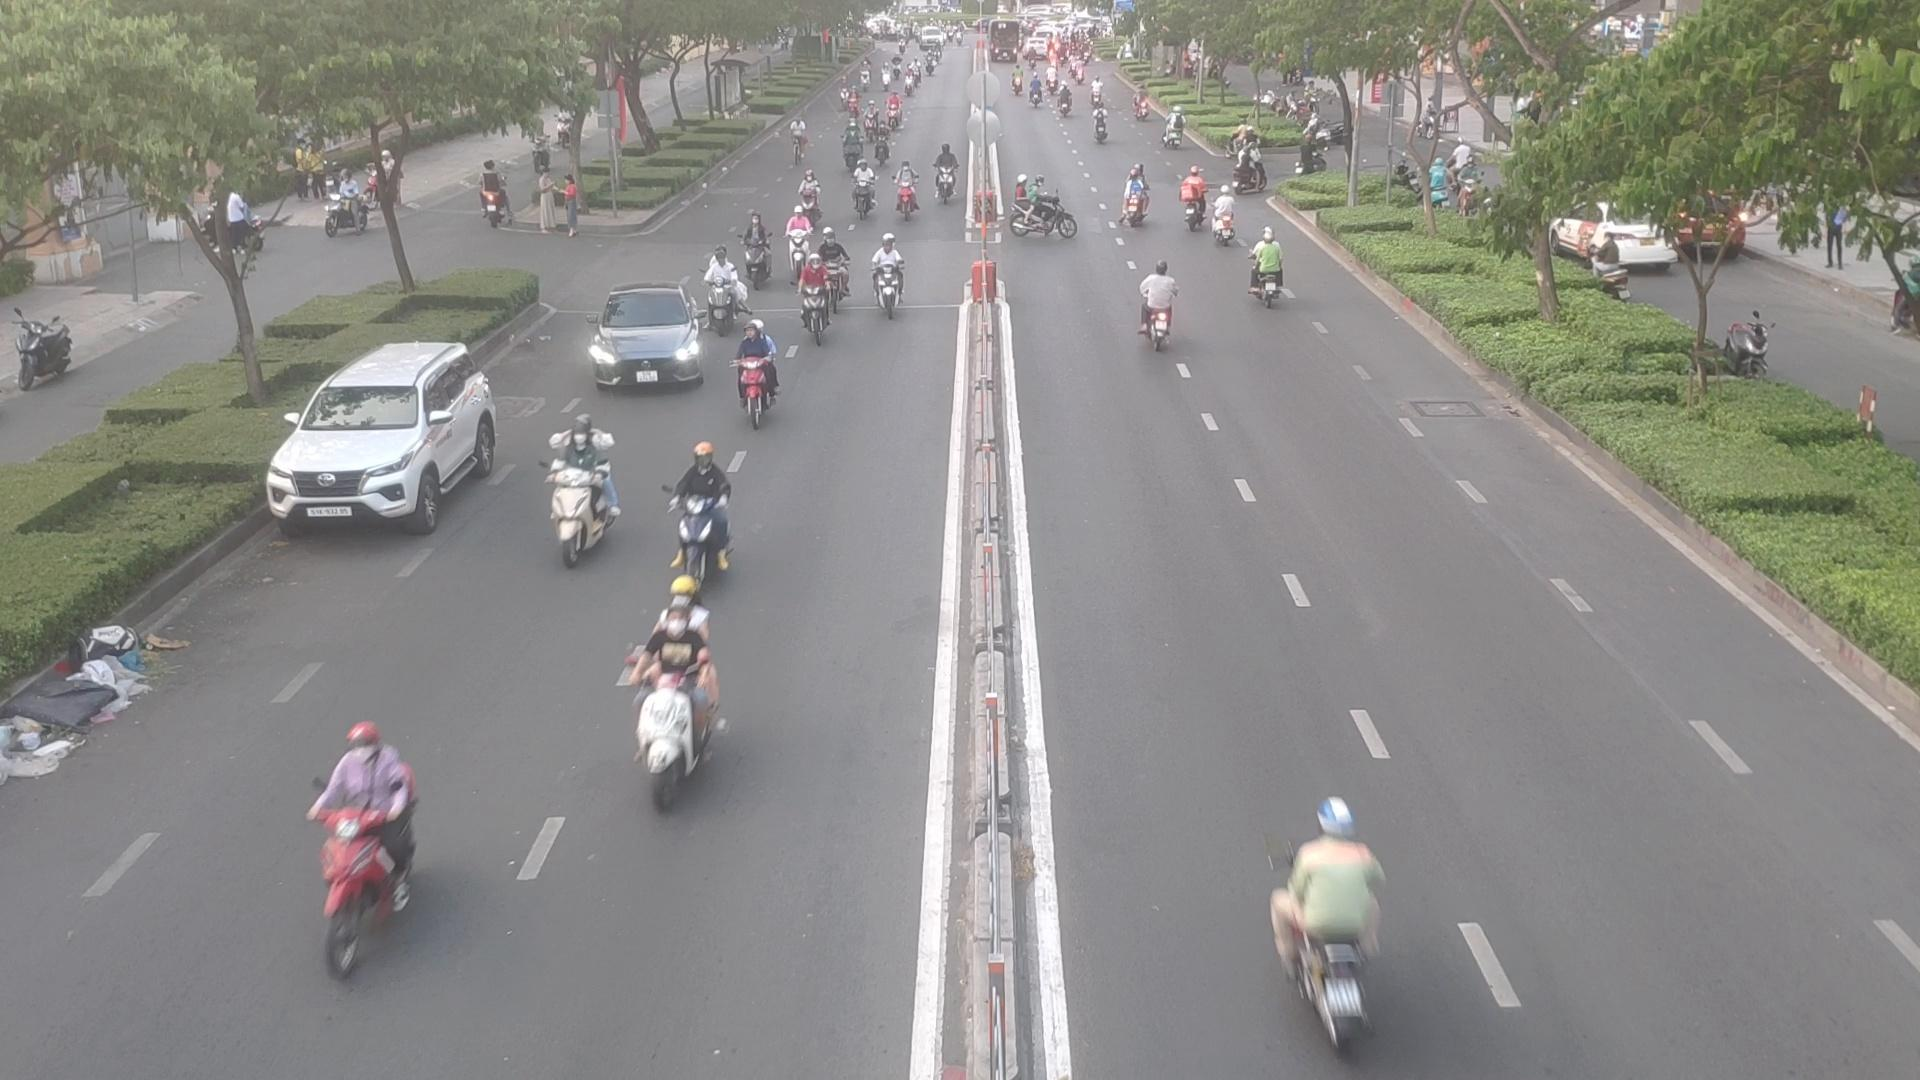car: (269, 344, 514, 535), (583, 286, 709, 388)
motorbike: (299, 717, 433, 967), (1261, 814, 1393, 1050), (616, 596, 723, 798), (535, 423, 617, 563), (665, 446, 732, 575), (723, 316, 783, 422), (1007, 175, 1081, 248), (1131, 266, 1185, 348), (699, 255, 752, 331), (865, 240, 910, 322), (1245, 235, 1295, 306), (806, 229, 855, 297), (798, 255, 829, 343), (738, 216, 773, 286), (1174, 169, 1207, 233), (1124, 171, 1156, 227), (787, 211, 820, 264), (1209, 186, 1237, 248), (890, 164, 919, 219), (935, 144, 960, 204), (796, 173, 828, 218), (837, 119, 864, 171), (855, 157, 874, 218), (876, 124, 889, 167)
